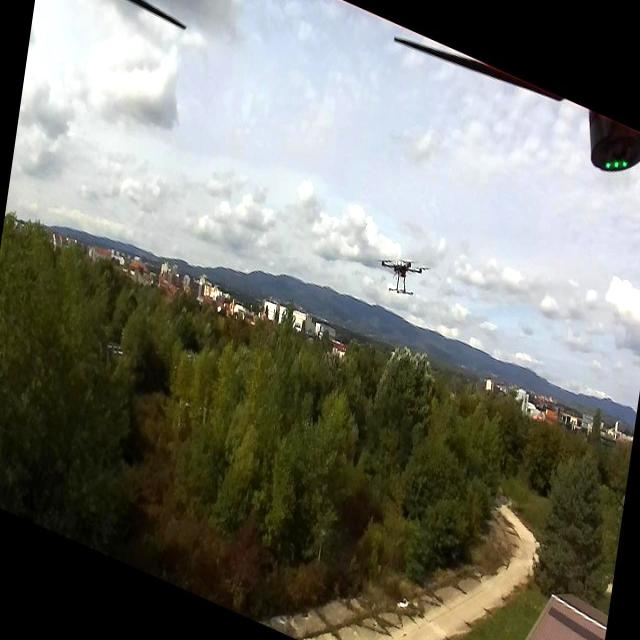drone: (378, 240, 428, 308)
